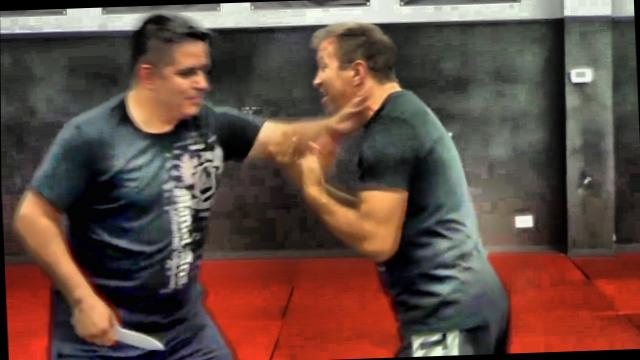knife: (67, 309, 165, 356)
